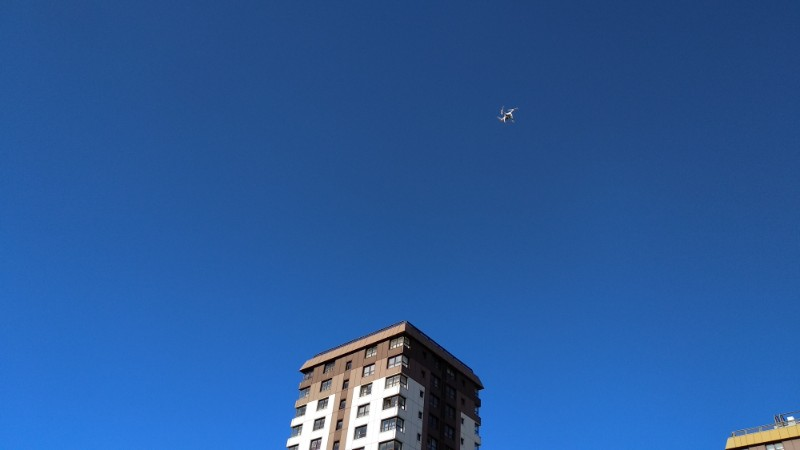drone: (496, 104, 518, 124)
